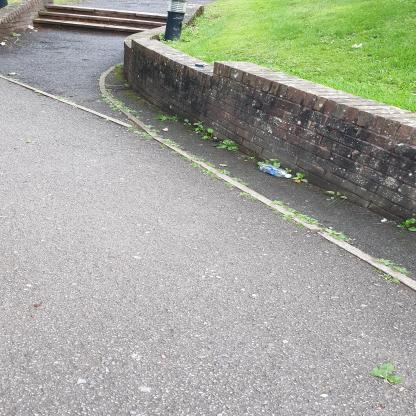Paper: (195, 62, 208, 67)
Plastic: (258, 163, 291, 178)
Waste: (285, 174, 292, 178)
